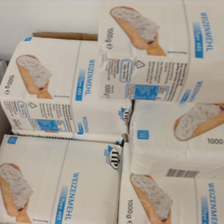flour: (1, 37, 131, 141), (97, 1, 223, 103), (1, 133, 123, 224), (128, 100, 224, 177)
